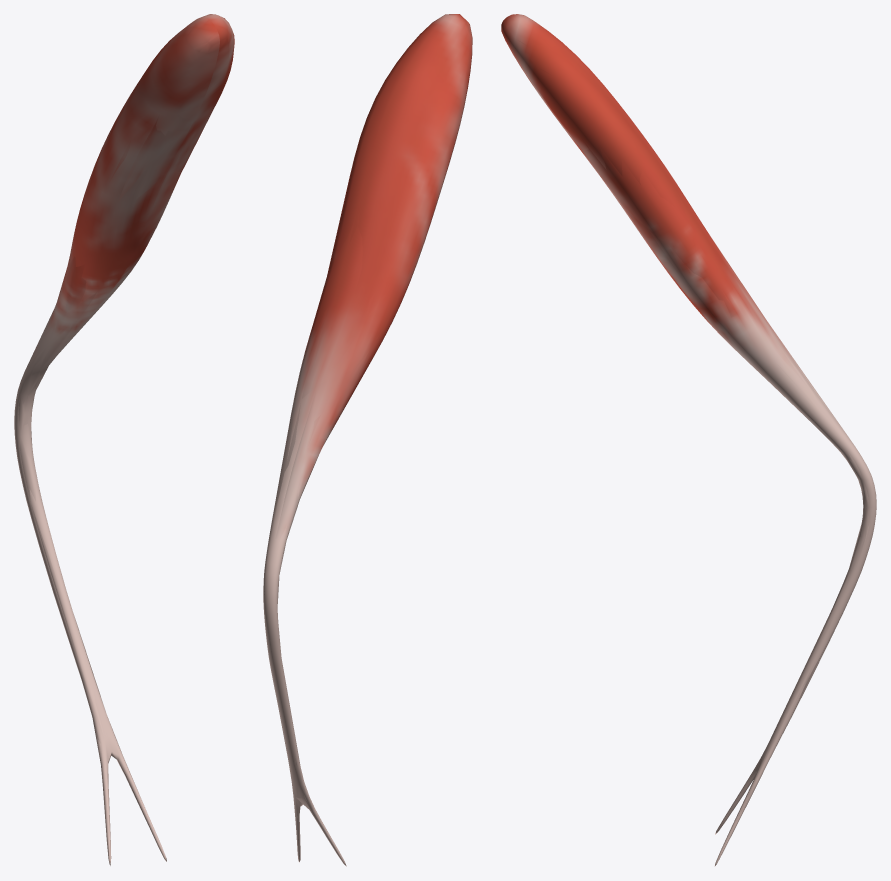
Rendered from R flexor digitorum superficialis.fbx.
3 renders of one model, left to right at view 1: azimuth 30°, elevation 25°; view 2: azimuth 150°, elevation 25°; view 3: azimuth 270°, elevation 25°, orthographic. The views are drawn at different scales.
Visible parts, largest first — view 1: R flexor digitorum superficialis, R flexor digitorum superficialis low; view 2: R flexor digitorum superficialis, R flexor digitorum superficialis low; view 3: R flexor digitorum superficialis, R flexor digitorum superficialis low.
Part boxes in pixels (x1=…): R flexor digitorum superficialis: x1=14, y1=14, x2=234, y2=865; R flexor digitorum superficialis low: x1=18, y1=17, x2=226, y2=829; R flexor digitorum superficialis: x1=263, y1=14, x2=472, y2=866; R flexor digitorum superficialis low: x1=269, y1=14, x2=471, y2=847; R flexor digitorum superficialis: x1=501, y1=14, x2=876, y2=866; R flexor digitorum superficialis low: x1=502, y1=14, x2=869, y2=825.
Bounding box in the file's own units: 3.09 × 25.32 × 10.49.
